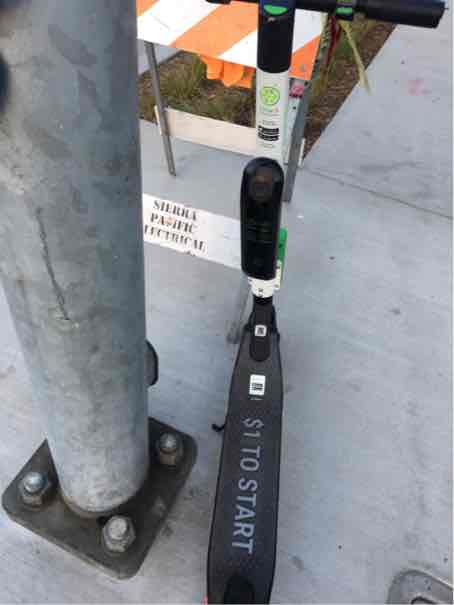scooter: (90, 13, 438, 605)
